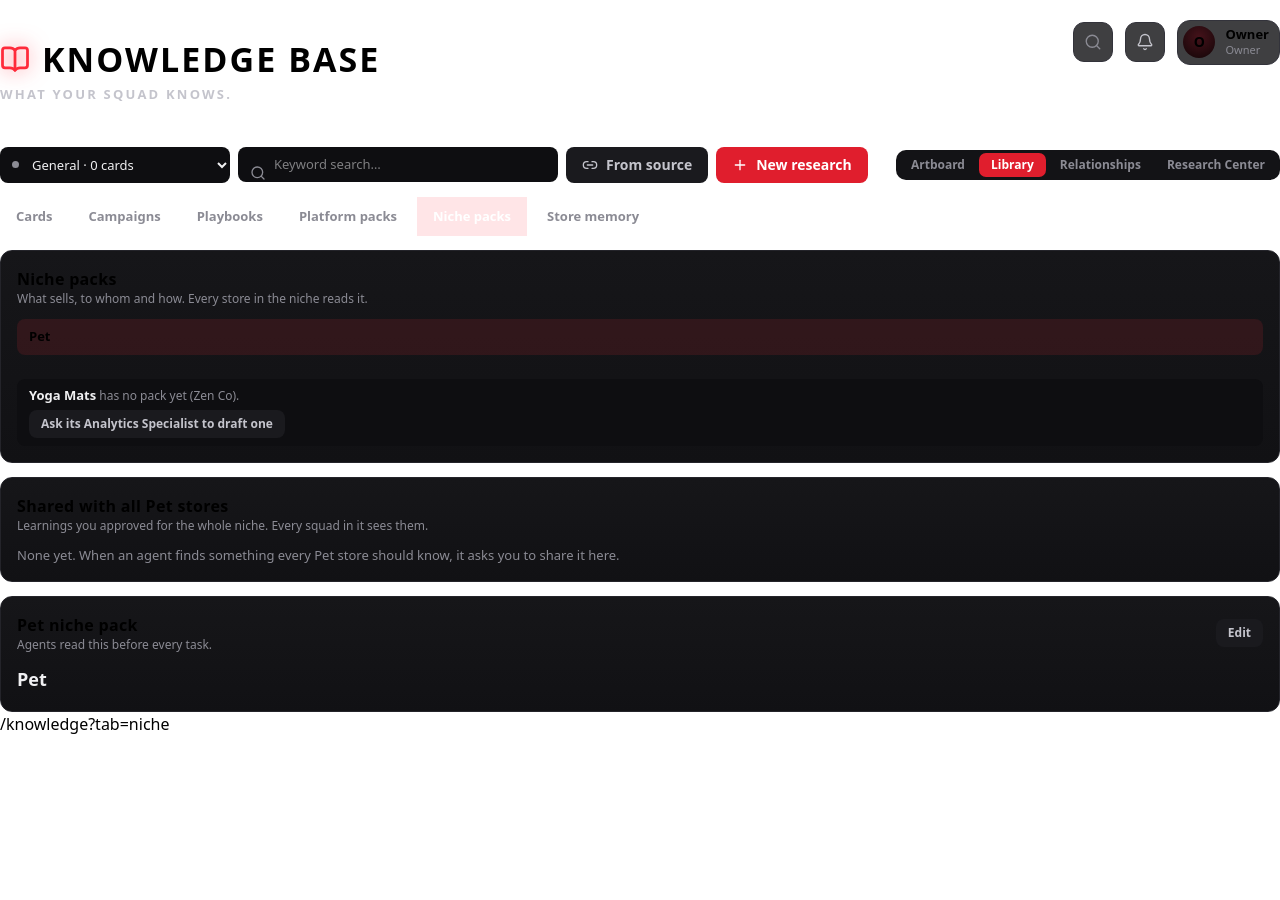
Knowledge Base › a custom niche with no pack › asks its Analytics Specialist to draft one and opens the run
expect the list item "has no pack yet" is shown: met, box 96,386 -> 194,404
Click the button "Ask its Analytics Specialist to draft one" at (157, 424), box 29,410 -> 285,438
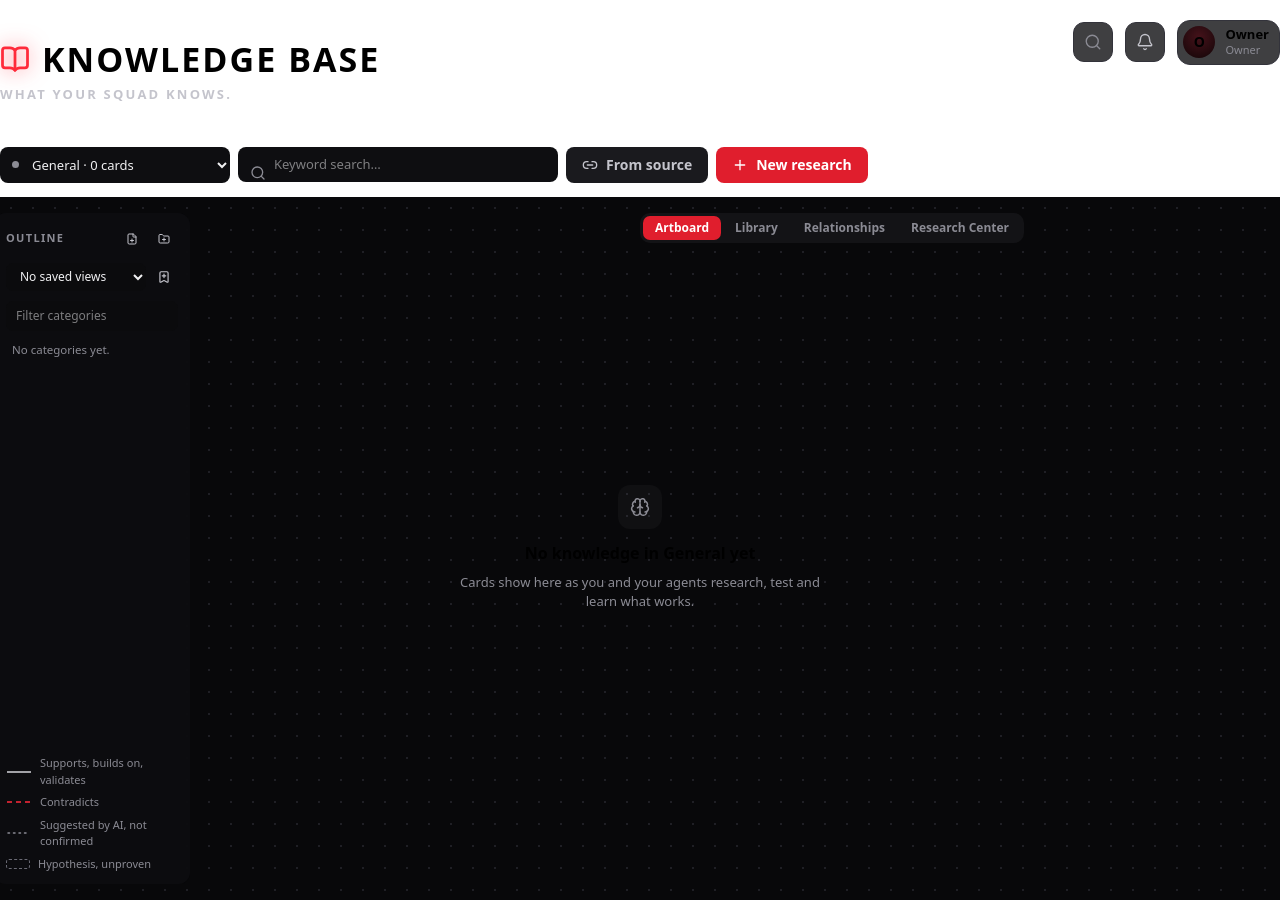
expect the text with test id "where" reads "/agents/zen%3Amarket_analyst?run=r1": met, box 0,869 -> 295,891
